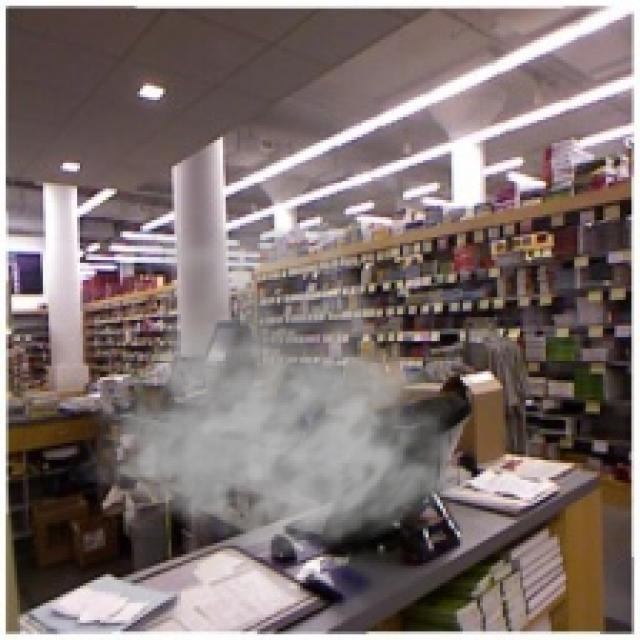smoke: (69, 194, 474, 560)
